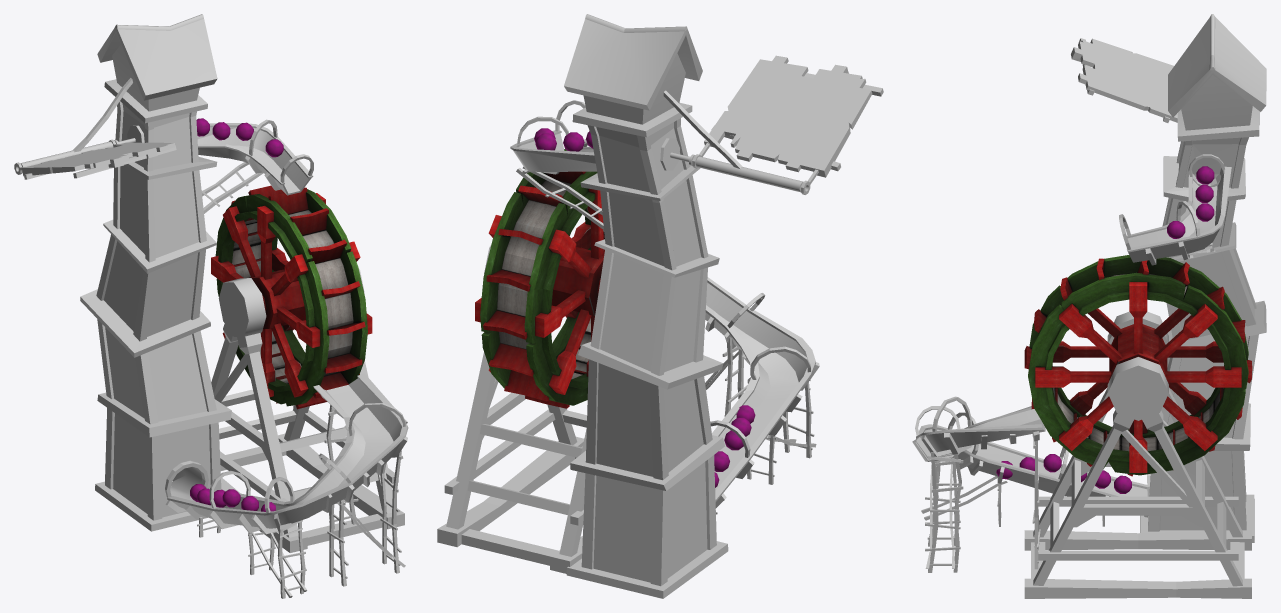
The model's file is WaterWheel.gltf.
The picture shows the model from 3 angles, left to right: view 1: azimuth 30°, elevation 25°; view 2: azimuth 150°, elevation 25°; view 3: azimuth 270°, elevation 25°; orthographic projection. The views are drawn at different scales.
Visible parts, largest first — view 1: WaterWheel_Tower_01, WaterWheel_Structure_01, WaterWheel, Water_Wheel_Track_01, Sign; view 2: WaterWheel_Tower_01, WaterWheel_Structure_01, WaterWheel, Sign, Water_Wheel_Track_01; view 3: WaterWheel_Structure_01, WaterWheel, WaterWheel_Tower_01, Water_Wheel_Track_01, Sign.
Boxes of the visible parts, box(x1,y1,x2,y2) form: WaterWheel_Tower_01: box(80, 14, 231, 531); WaterWheel_Structure_01: box(20, 78, 407, 598); WaterWheel: box(211, 185, 372, 409); Water_Wheel_Track_01: box(167, 123, 408, 528); Sign: box(14, 139, 176, 179); WaterWheel_Tower_01: box(564, 14, 728, 598); WaterWheel_Structure_01: box(437, 90, 819, 573); WaterWheel: box(475, 149, 604, 408); Sign: box(689, 55, 883, 194); Water_Wheel_Track_01: box(510, 130, 815, 501); WaterWheel_Structure_01: box(912, 154, 1251, 598); WaterWheel: box(1024, 255, 1252, 476); WaterWheel_Tower_01: box(1140, 14, 1266, 542); Water_Wheel_Track_01: box(916, 157, 1231, 496); Sign: box(1071, 38, 1177, 122).
Size of what is drawn, in the model's own units: 0.3351 by 0.4985 by 0.3283.
